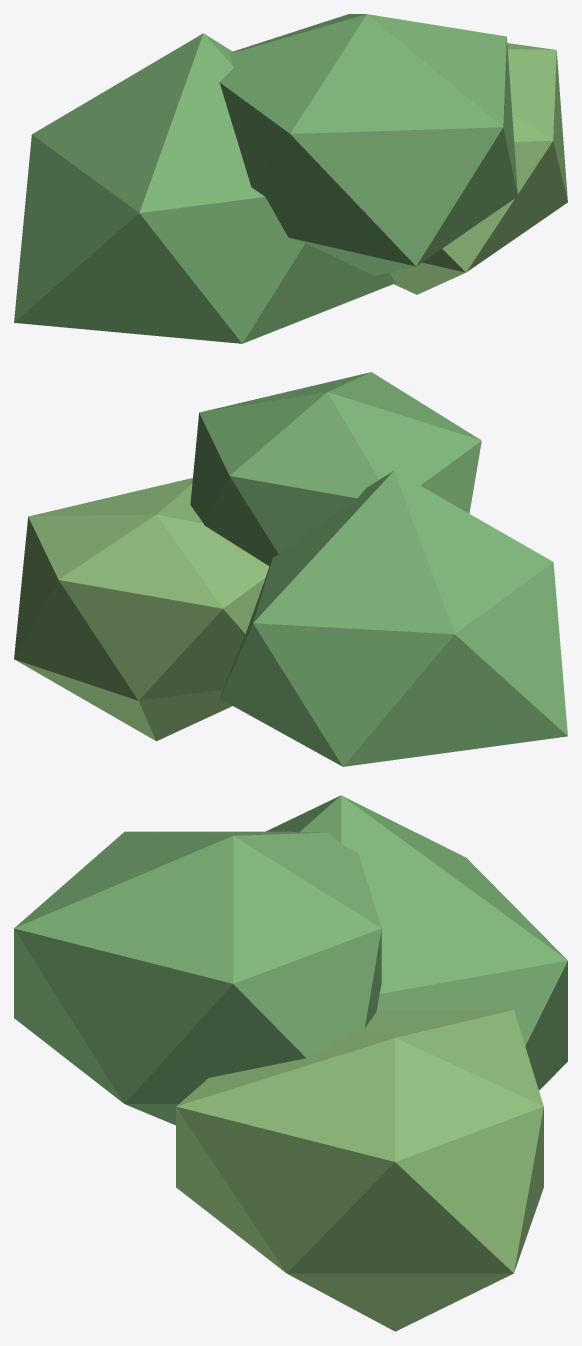
The model's file is bush.fbx.
3 renders of one model, top to bottom at view 1: azimuth 30°, elevation 25°; view 2: azimuth 150°, elevation 25°; view 3: azimuth 270°, elevation 25°, orthographic. The views are drawn at different scales.
Visible parts, largest first — view 1: B1, B3, B2; view 2: B1, B2, B3; view 3: B2, B3, B1.
Part boxes in pixels (<box>): B1: <box>14,33,395,343</box>; B3: <box>219,14,517,275</box>; B2: <box>391,43,567,294</box>; B1: <box>219,471,567,766</box>; B2: <box>14,478,269,741</box>; B3: <box>190,372,481,565</box>; B2: <box>176,1010,543,1331</box>; B3: <box>14,831,381,1125</box>; B1: <box>266,795,567,1090</box>.
Size of the model in its own units: 1.44 by 0.8727 by 1.03.
